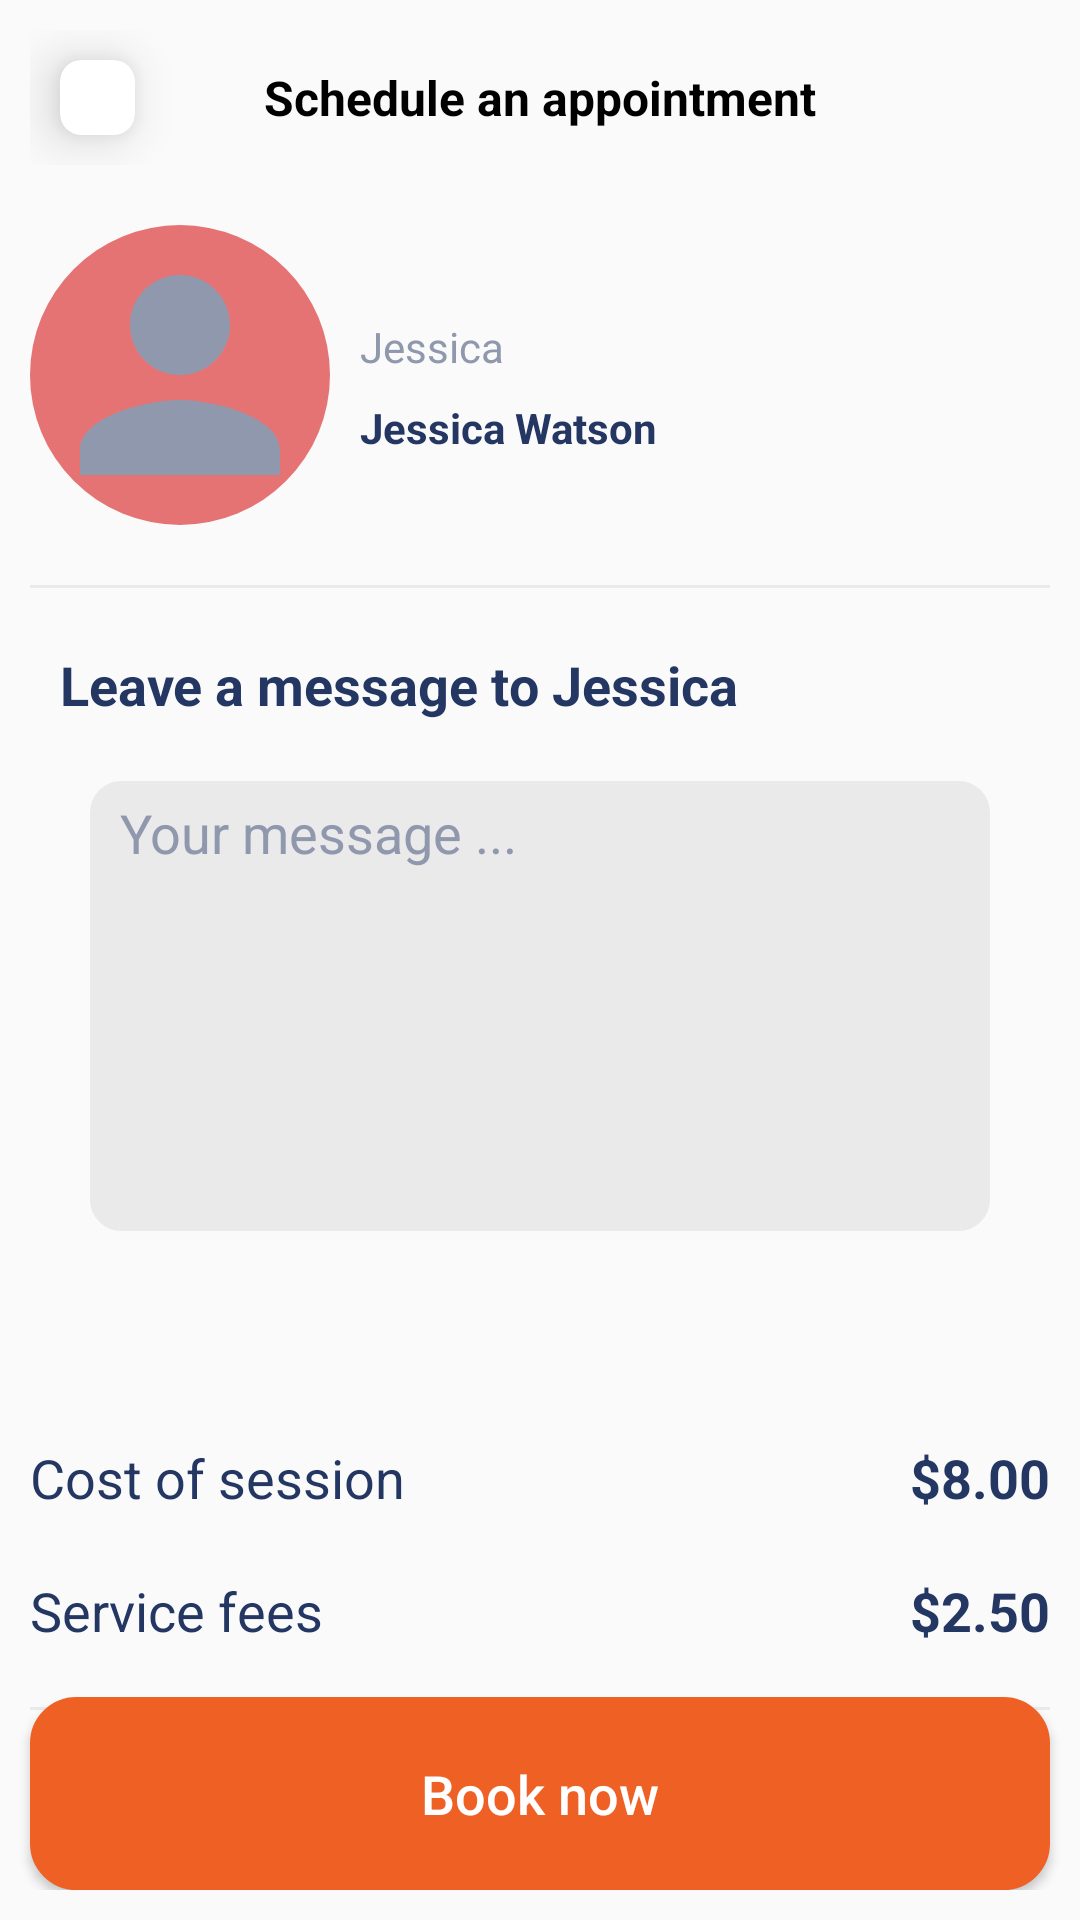

Named icons in this screenshot (1080 x 1920) and their bounding boxes, rect(x1, y1, x2, y2):
person: rect(30, 225, 330, 525)
